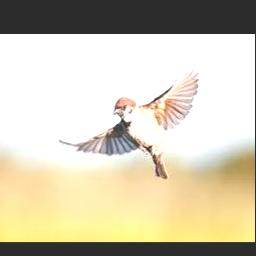Sparrow: (58, 62, 201, 179)
